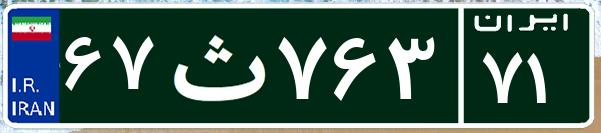1: (525, 38, 570, 115)
3: (385, 28, 445, 110)
6: (330, 28, 385, 110), (57, 26, 110, 107)
7: (273, 28, 330, 110), (475, 38, 525, 113), (110, 28, 158, 105)
ث: (158, 15, 273, 115)
